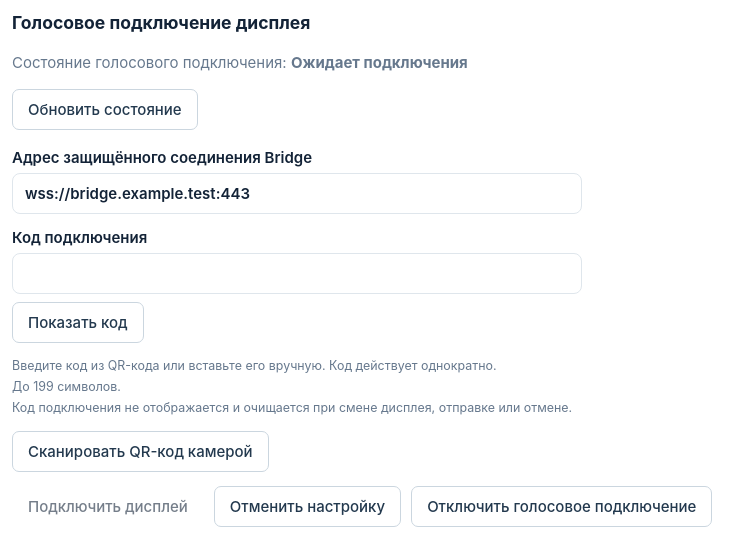
it: refreshes the selected device status on demand
Check: the text "Ожидает подключения" is shown, box 291,52 -> 468,72
Click the button "Обновить состояние".
click(105, 109)  # box 12,89 -> 198,130
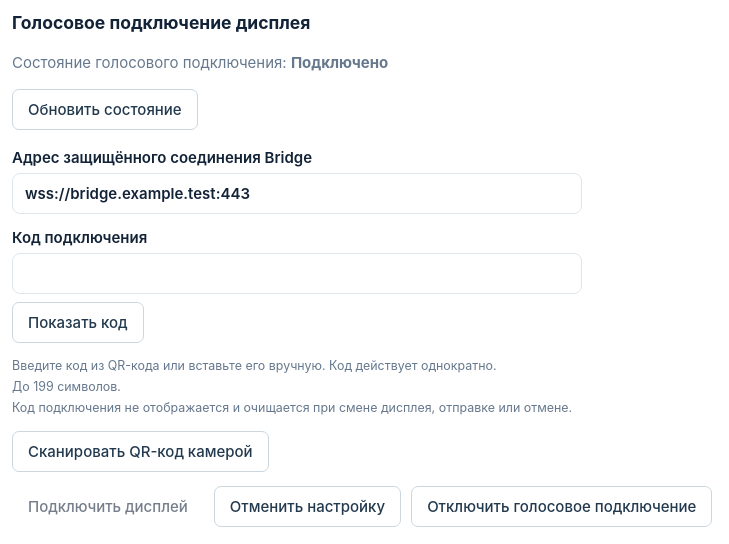
Check: the text "Подключено" is shown, box 291,52 -> 388,72
